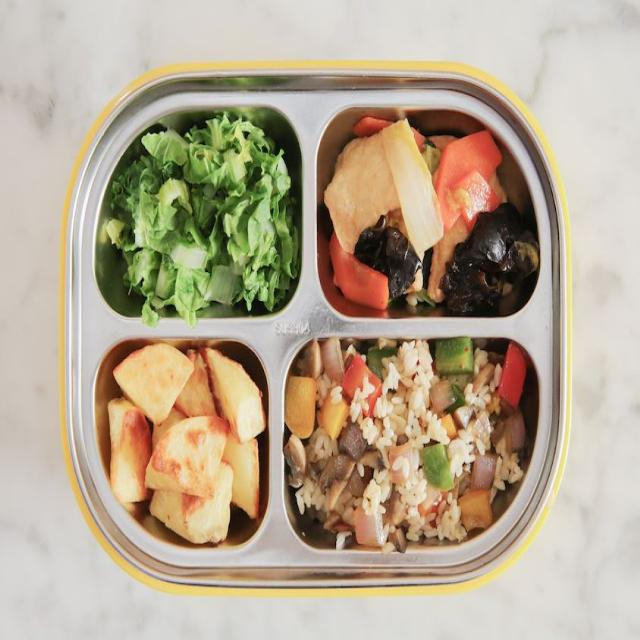Green veg: (108, 111, 299, 324)
Non green veg: (324, 120, 468, 300), (430, 130, 504, 234), (330, 232, 388, 309), (353, 116, 391, 136), (413, 129, 425, 149)
Potato: (108, 342, 265, 543)
Rice: (285, 338, 524, 553)
